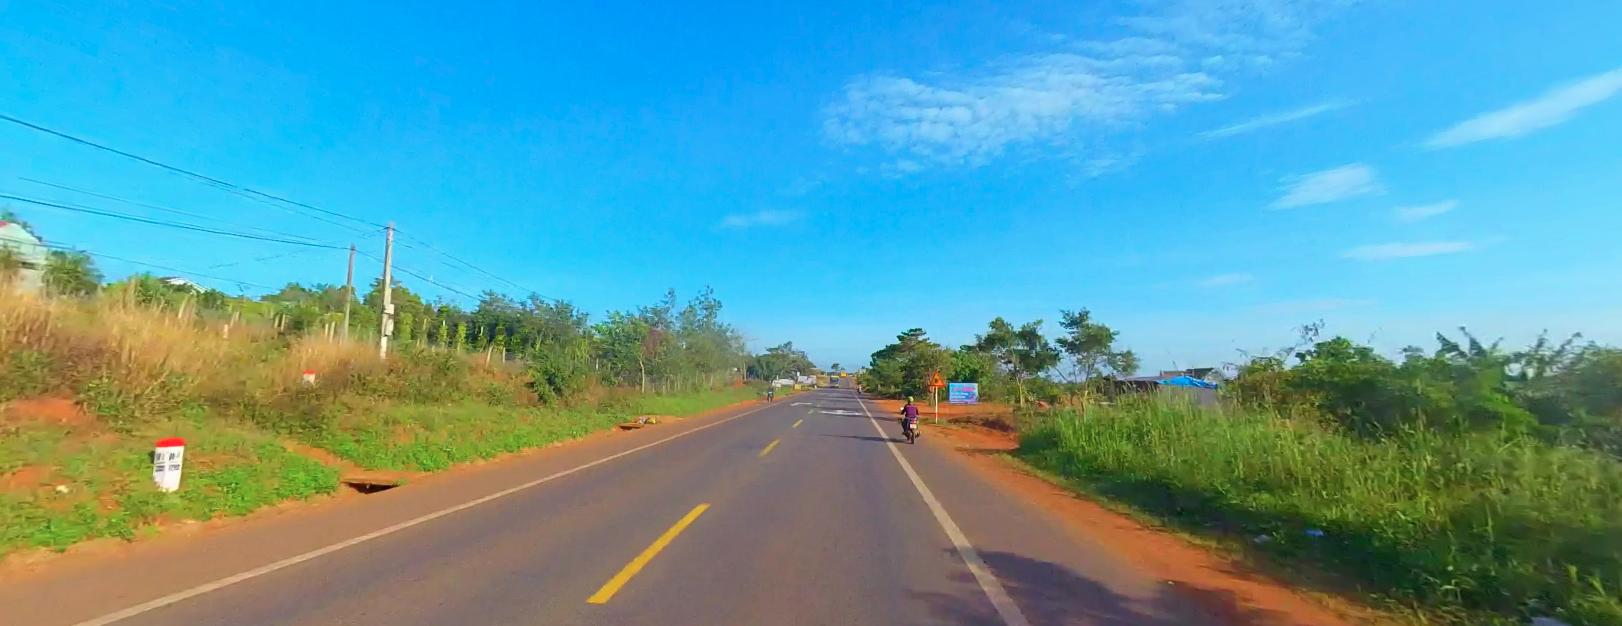Nguy hiem: (928, 370, 944, 384), (929, 370, 944, 384)
